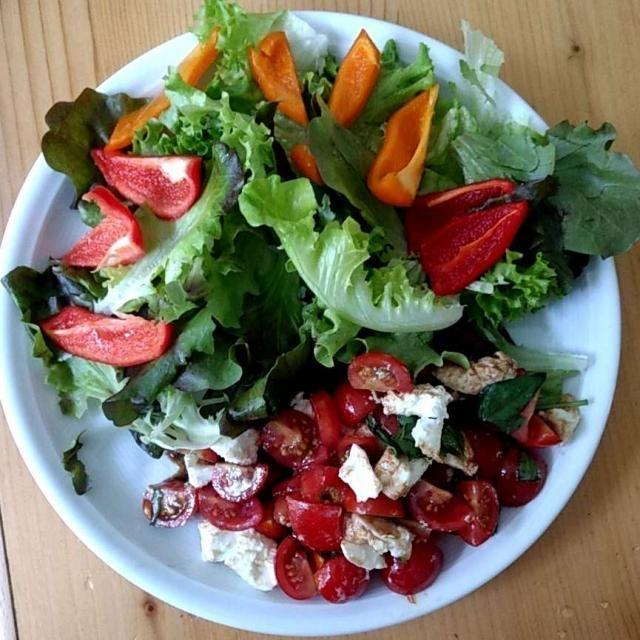salad: (22, 8, 615, 477), (138, 342, 548, 607)
